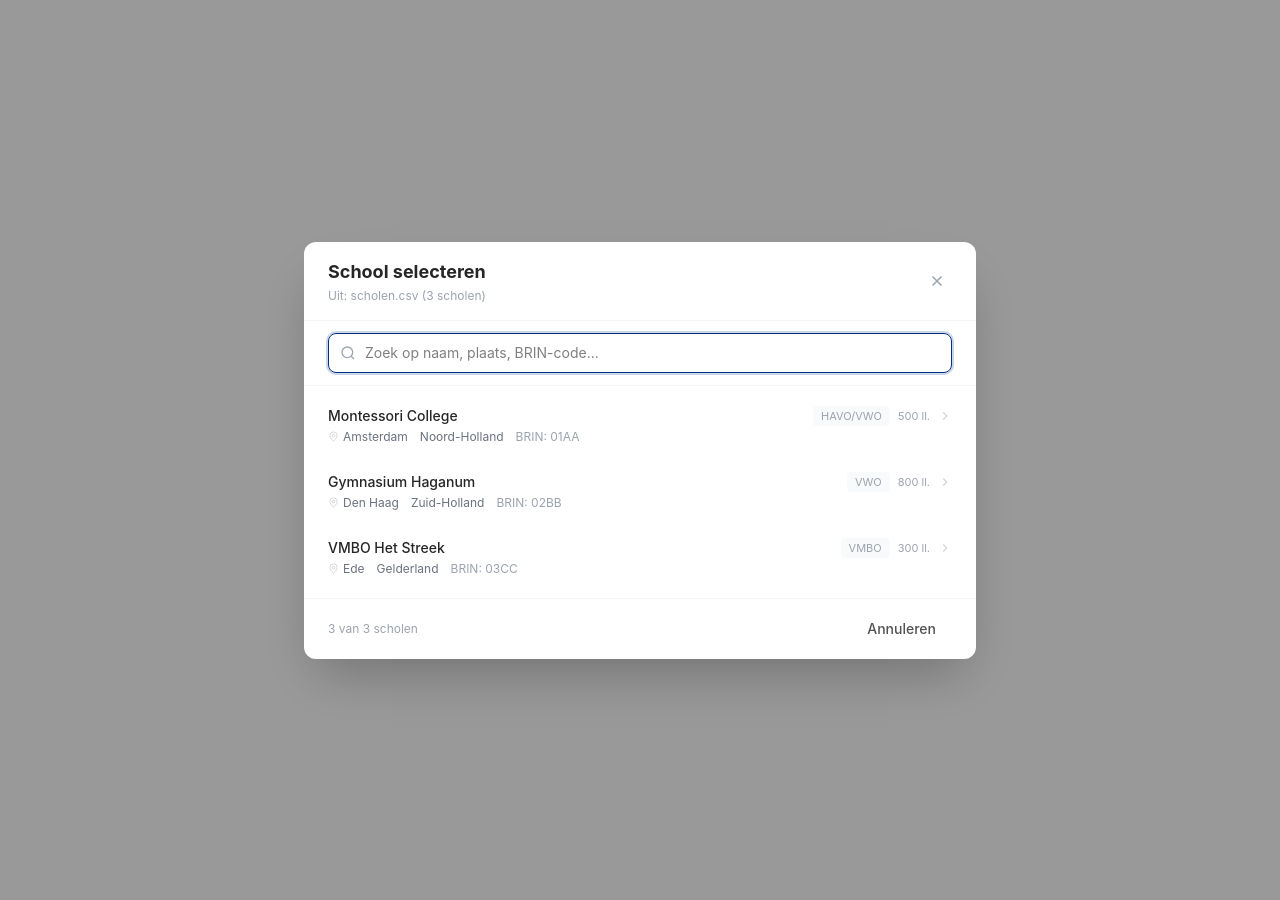
Test: SchoolPickerDialog › search filters school list
This screenshot has width=1280, height=900.
In the field with placeholder "Zoek op naam, plaats, BRIN-code...": (640, 352) top-left (328, 332), bottom-right (952, 372), type "Gymnasium"
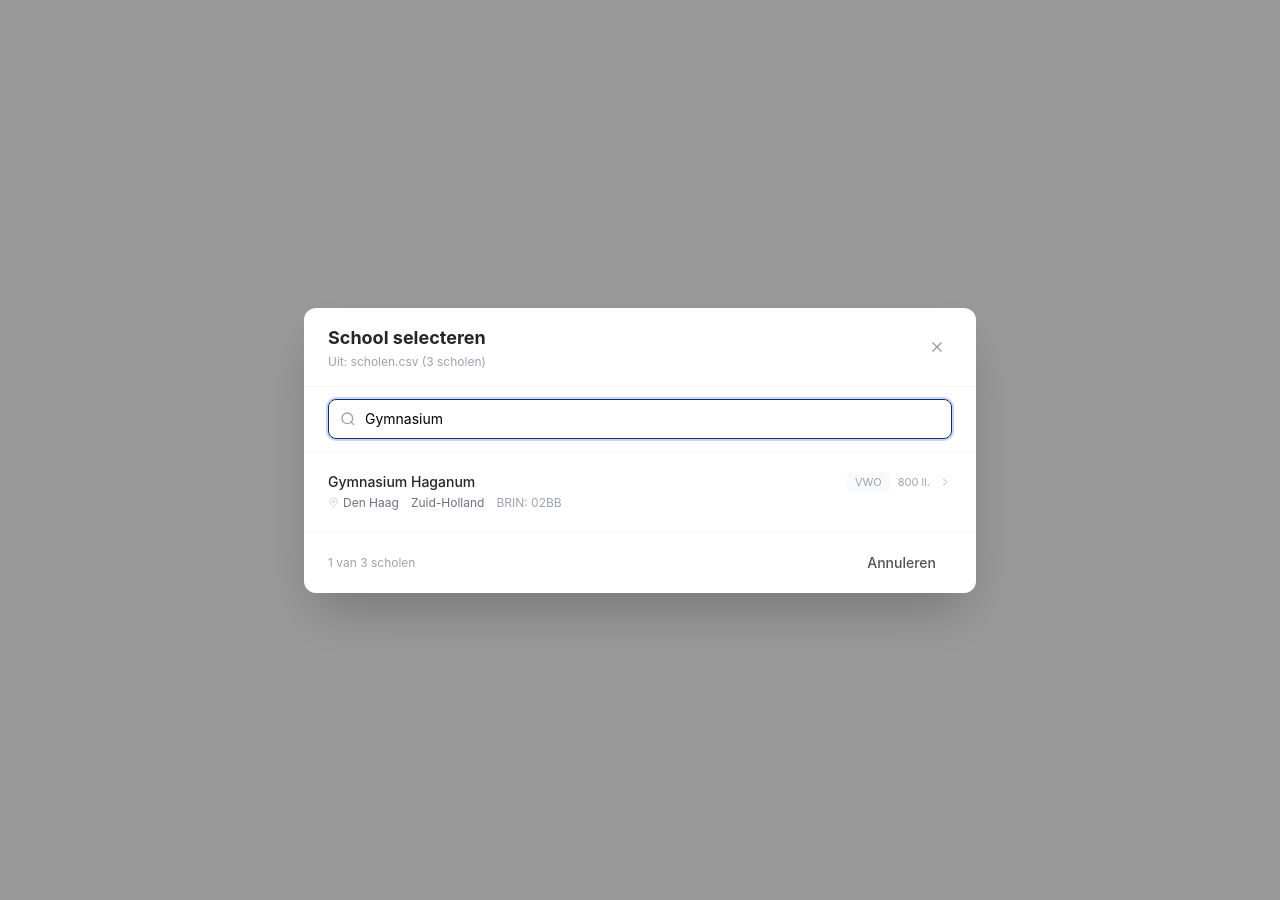
Expected: the text "Gymnasium Haganum" is shown, top-left (328, 472), bottom-right (475, 490)
Expected: the button "Montessori College" is gone
Expected: the button "VMBO Het Streek" is gone
